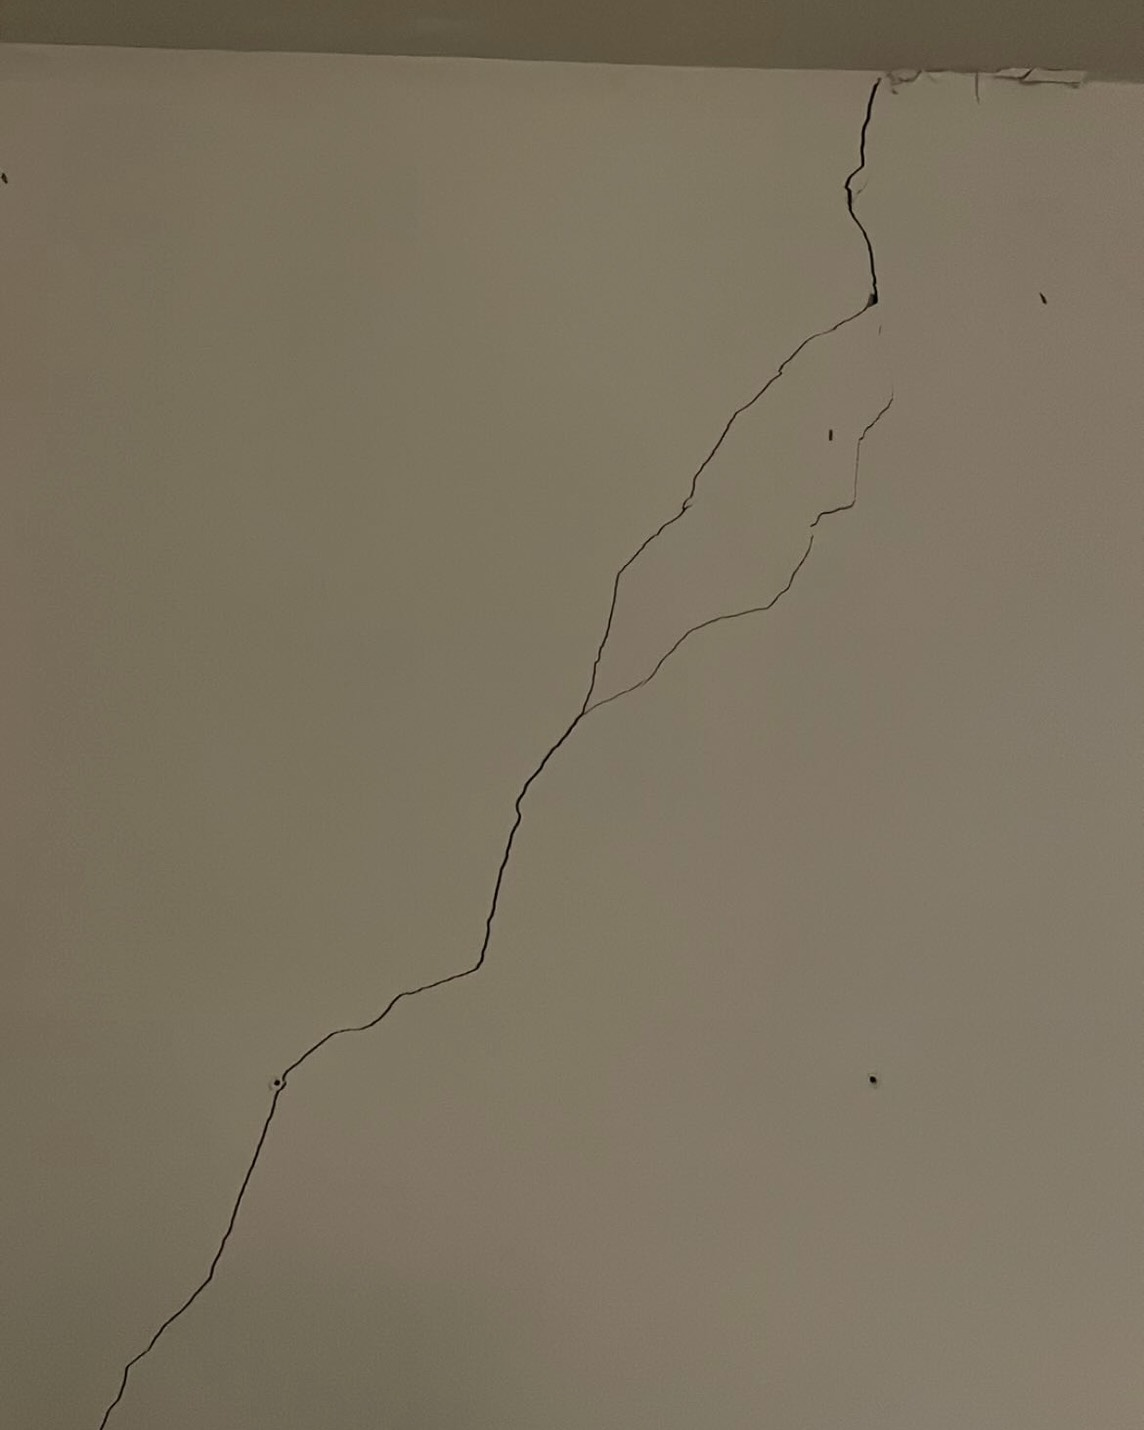Low: (93, 54, 949, 1418)
